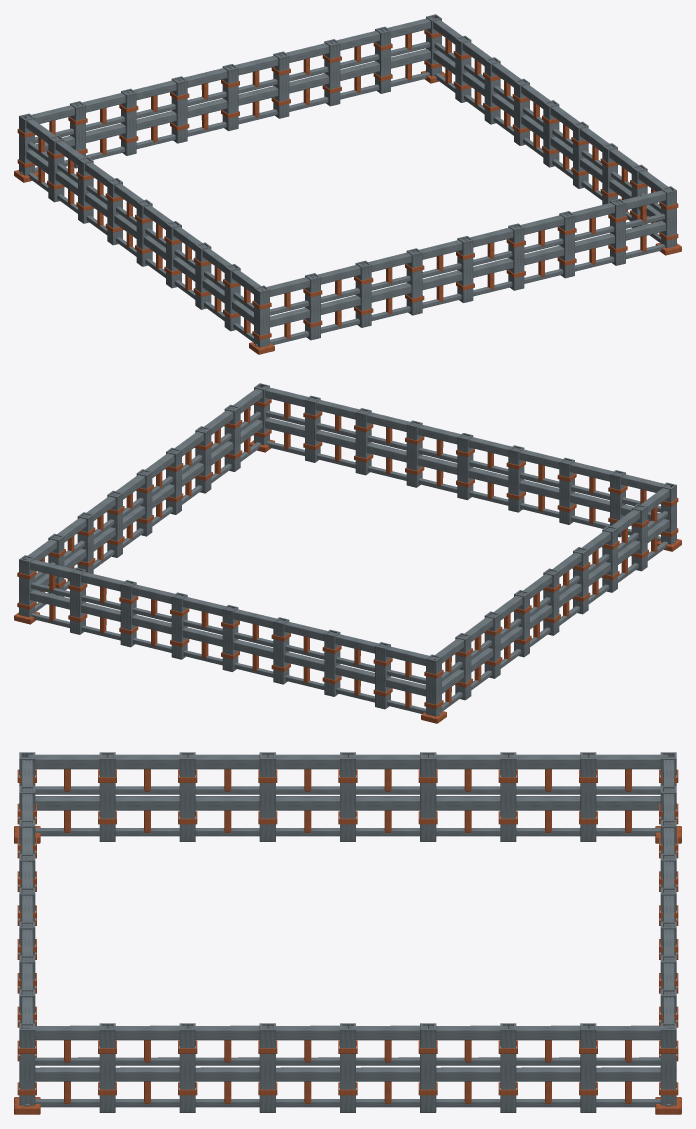
3 views of the same model, one above another, from view 1: azimuth 30°, elevation 25°; view 2: azimuth 150°, elevation 25°; view 3: azimuth 270°, elevation 25° (orthographic). The views are drawn at different scales.
Parts seen in each view (by area): view 1: Tier 0 side 2 post 2, Tier 0 side 0 post 3, Tier 0 side 0 post 0, Tier 0 side 2 post 5, Tier 0 side 0 post 4, Tier 0 side 0 post 5, Tier 0 side 2 post 4, Tier 0 side 2 post 3, Tier 0 side 0 post 2, Tier 0 side 2 post 6, Tier 0 side 0 post 7, Tier 0 side 0 post 1 (+18 smaller); view 2: Tier 0 side 2 post 2, Tier 0 side 0 post 6, Tier 0 side 2 post 3, Tier 0 side 2 post 5, Tier 0 side 3 post 0, Tier 0 side 0 post 5, Tier 0 side 2 post 4, Tier 0 side 0 post 4, Tier 0 side 0 post 3, Tier 0 side 2 post 6, Tier 0 side 0 post 2, Tier 0 side 2 post 7 (+18 smaller); view 3: Tier 0 side 1 post 3, Tier 0 side 1 post 5, Tier 0 side 3 post 3, Tier 0 side 3 post 5, Tier 0 side 1 post 1, Tier 0 side 1 post 2, Tier 0 side 1 post 6, Tier 0 side 1 post 7, Tier 0 side 3 post 1, Tier 0 side 3 post 6, Tier 0 side 3 post 7, Tier 0 side 3 post 2 (+64 smaller).
Part boxes in pixels (left/top/right/bottom): Tier 0 side 2 post 2: left=324, top=39, right=340, bottom=106; Tier 0 side 0 post 3: left=406, top=248, right=422, bottom=315; Tier 0 side 0 post 0: left=254, top=285, right=269, bottom=347; Tier 0 side 2 post 5: left=171, top=76, right=187, bottom=143; Tier 0 side 0 post 4: left=457, top=236, right=473, bottom=302; Tier 0 side 0 post 5: left=508, top=223, right=524, bottom=290; Tier 0 side 2 post 4: left=222, top=64, right=238, bottom=131; Tier 0 side 2 post 3: left=273, top=51, right=289, bottom=118; Tier 0 side 0 post 2: left=355, top=260, right=371, bottom=327; Tier 0 side 2 post 6: left=121, top=88, right=136, bottom=155; Tier 0 side 0 post 7: left=610, top=198, right=625, bottom=265; Tier 0 side 0 post 1: left=305, top=273, right=320, bottom=340; Tier 0 side 2 post 2: left=120, top=580, right=136, bottom=647; Tier 0 side 0 post 6: left=355, top=408, right=371, bottom=475; Tier 0 side 2 post 3: left=171, top=592, right=187, bottom=659; Tier 0 side 2 post 5: left=273, top=617, right=289, bottom=684; Tier 0 side 3 post 0: left=426, top=654, right=441, bottom=716; Tier 0 side 0 post 5: left=406, top=420, right=422, bottom=487; Tier 0 side 2 post 4: left=222, top=605, right=238, bottom=671; Tier 0 side 0 post 4: left=457, top=433, right=473, bottom=500; Tier 0 side 0 post 3: left=508, top=445, right=524, bottom=512; Tier 0 side 2 post 6: left=324, top=629, right=340, bottom=696; Tier 0 side 0 post 2: left=559, top=457, right=574, bottom=524; Tier 0 side 2 post 7: left=375, top=642, right=390, bottom=709; Tier 0 side 1 post 3: left=259, top=1023, right=275, bottom=1112; Tier 0 side 1 post 5: left=420, top=1023, right=436, bottom=1112; Tier 0 side 3 post 3: left=420, top=752, right=436, bottom=841; Tier 0 side 3 post 5: left=259, top=752, right=275, bottom=841; Tier 0 side 1 post 1: left=99, top=1023, right=115, bottom=1112; Tier 0 side 1 post 2: left=179, top=1023, right=195, bottom=1112; Tier 0 side 1 post 6: left=500, top=1023, right=516, bottom=1112; Tier 0 side 1 post 7: left=580, top=1023, right=596, bottom=1112; Tier 0 side 3 post 1: left=580, top=752, right=596, bottom=841; Tier 0 side 3 post 6: left=179, top=752, right=195, bottom=841; Tier 0 side 3 post 7: left=99, top=752, right=115, bottom=841; Tier 0 side 3 post 2: left=500, top=752, right=516, bottom=841.
Size of the model in its own units: 3.75 by 0.5143 by 3.75.
Materials: 2 (2 with a texture image).
